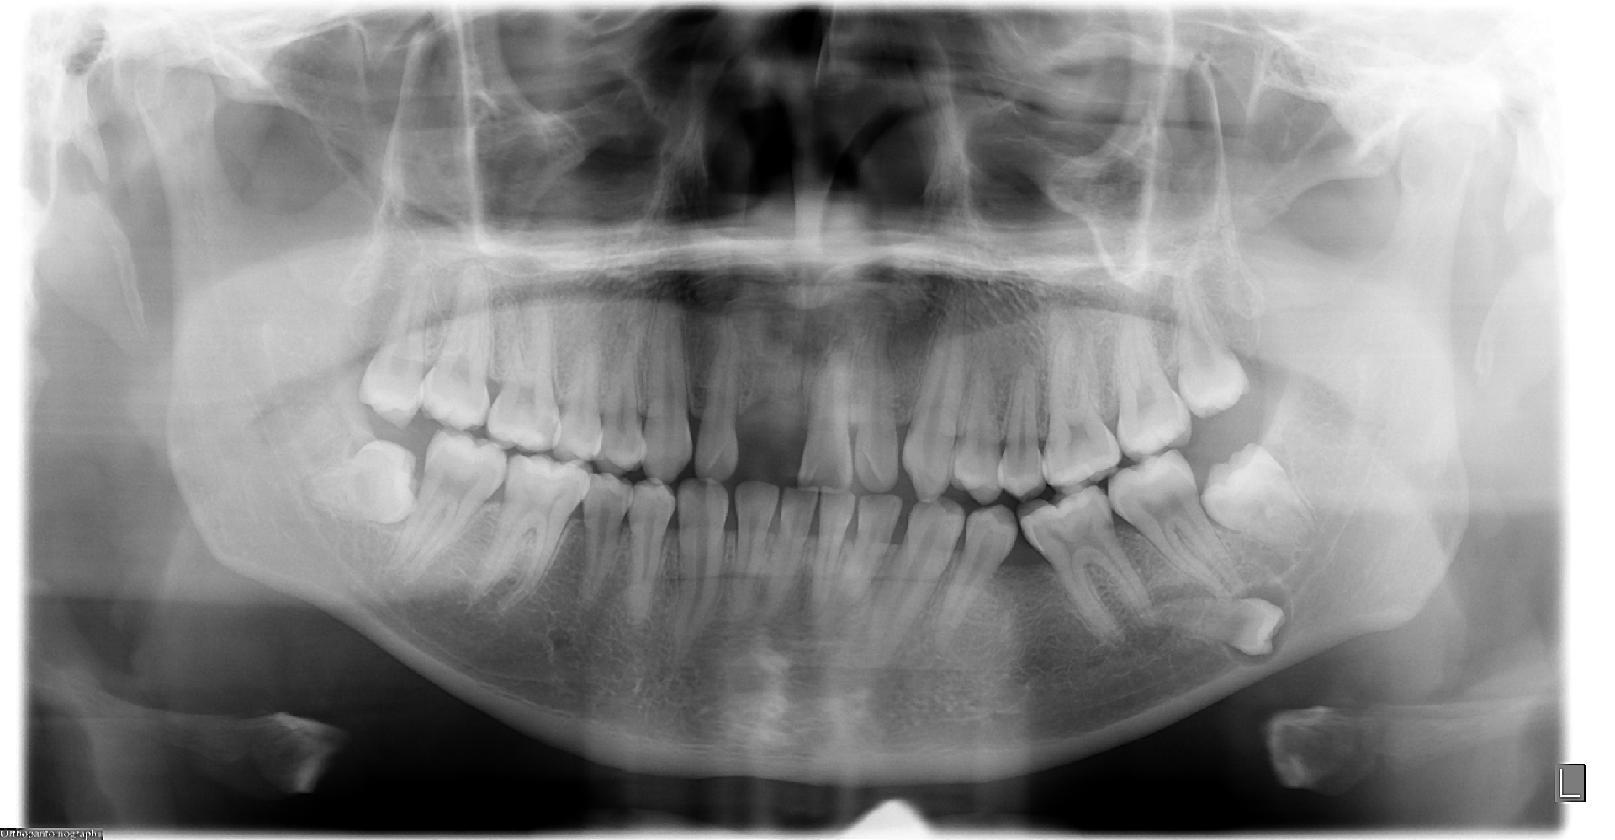Horizontal: (305, 439, 427, 527)
Mesio-angular: (1204, 438, 1321, 566)
